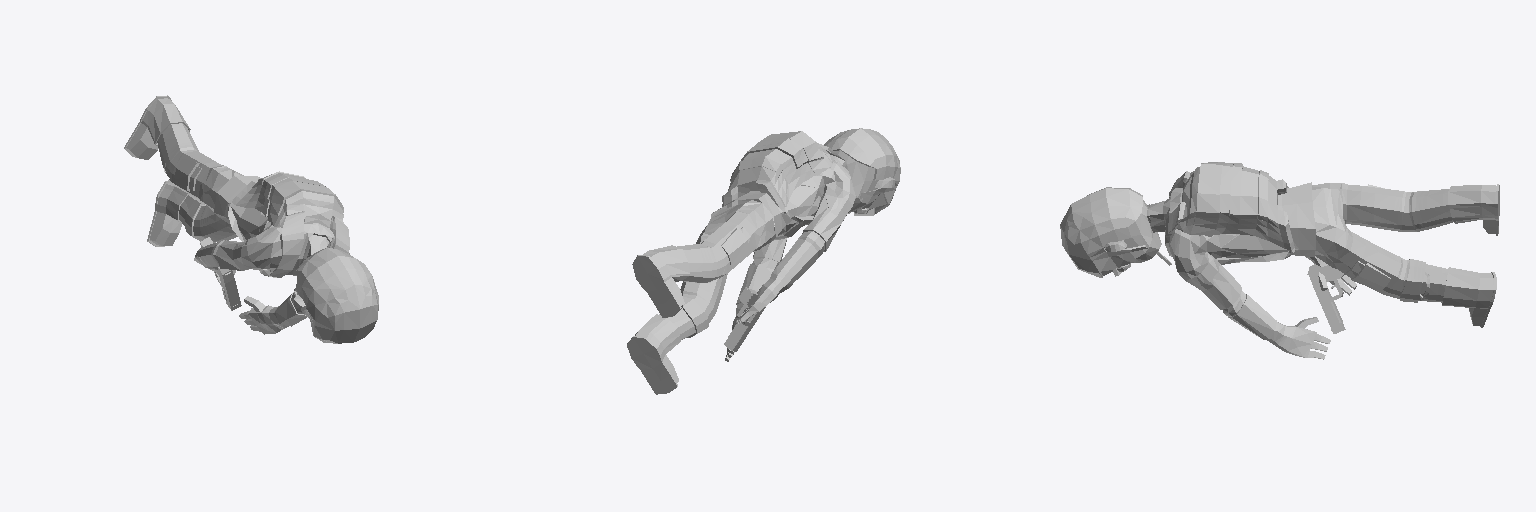
The model's file is frame_0012.obj.
The picture shows the model from 3 angles: view 1: azimuth 30°, elevation 25°; view 2: azimuth 150°, elevation 25°; view 3: azimuth 270°, elevation 25°; orthographic projection.
Parts seen in each view (by area): view 1: Body, Gun; view 2: Body, Gun; view 3: Body, Gun.
Boxes of the visible parts, x1=… form: Body: x1=124, y1=95, x2=378, y2=343; Gun: x1=200, y1=237, x2=241, y2=310; Body: x1=627, y1=128, x2=900, y2=394; Gun: x1=724, y1=287, x2=765, y2=351; Body: x1=1060, y1=162, x2=1499, y2=359; Gun: x1=1307, y1=264, x2=1345, y2=333.
Size of the model in its own units: 1.08 by 1.96 by 4.13.